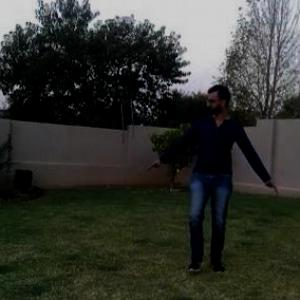land: (136, 80, 296, 290)
